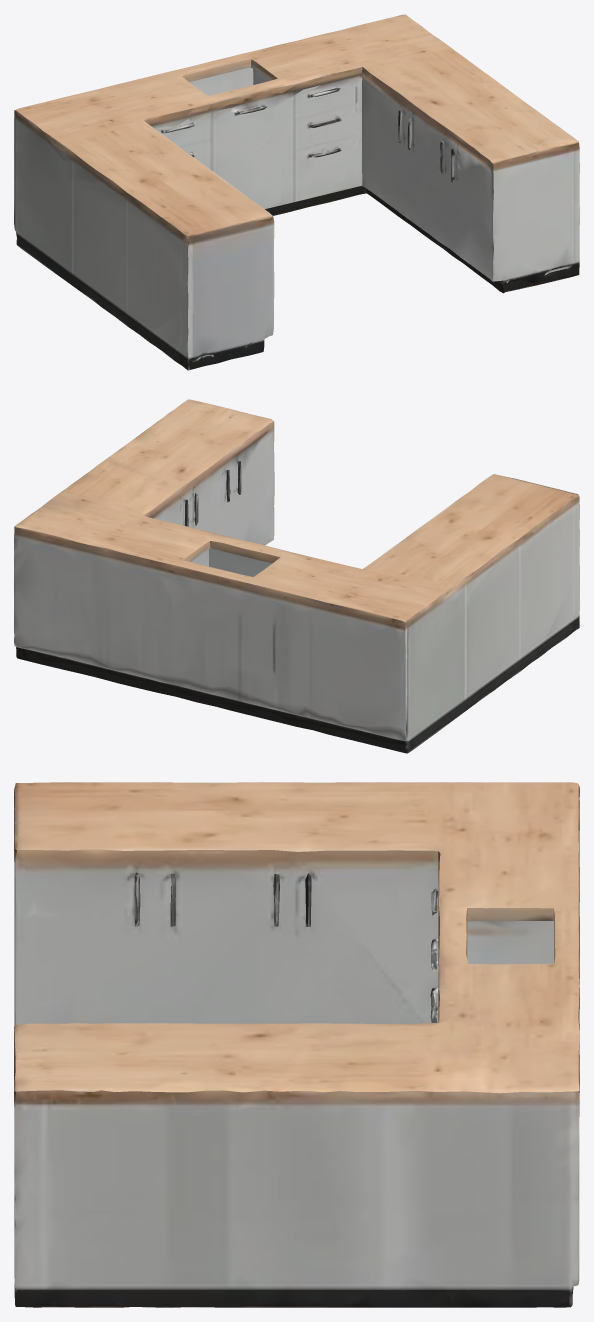
Rendered from kitchen-u.glb.
3 renders of one model, top to bottom at view 1: azimuth 30°, elevation 25°; view 2: azimuth 150°, elevation 25°; view 3: azimuth 270°, elevation 25°, orthographic. The views are drawn at different scales.
Visible parts, largest first — view 1: geometry_0; view 2: geometry_0; view 3: geometry_0.
Part boxes in pixels (x1,y1,x2,y2): geometry_0: [14, 14, 579, 370]; geometry_0: [14, 399, 579, 753]; geometry_0: [14, 782, 579, 1307].
Size of the model in its own units: 2.4 by 0.7854 by 1.85.
1 material, 1 textured.
